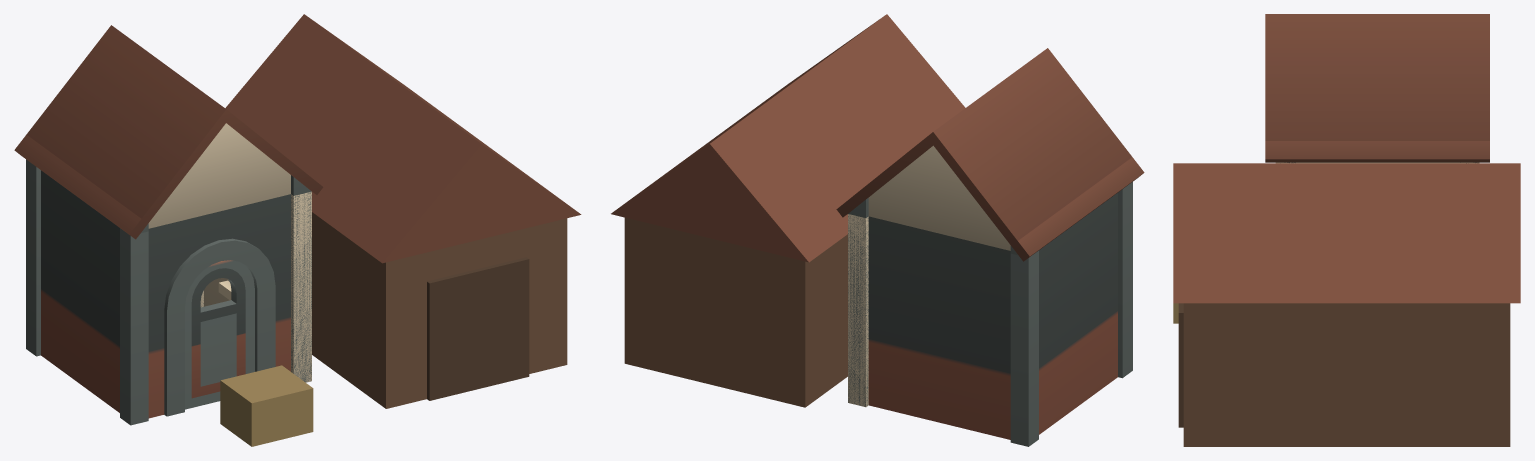
Rendered from facility-farm.glb.
3 views of the same model, side by side, from view 1: azimuth 30°, elevation 25°; view 2: azimuth 150°, elevation 25°; view 3: azimuth 270°, elevation 25° (orthographic). The views are drawn at different scales.
Parts seen in each view (by area): view 1: Original box (×3), Original gable, roof-gable, wall-wood (×2), wall-wood-door, door, wall-wood-window-small; view 2: wall-wood (×2), Original gable, Original box, roof-gable, wall-wood-window-small, wall-wood-door; view 3: Original gable, Original box (×2), roof-gable, wall-wood-window-small.
Part boxes in pixels (<box>): Original box (×3): <box>220,212,567,446</box>; Original gable: <box>225,14,581,263</box>; roof-gable: <box>14,25,323,239</box>; wall-wood (×2): <box>26,159,203,425</box>; wall-wood-door: <box>120,192,311,424</box>; door: <box>185,260,254,409</box>; wall-wood-window-small: <box>200,191,311,382</box>; wall-wood (×2): <box>848,182,1132,446</box>; Original gable: <box>611,14,965,262</box>; Original box: <box>624,217,847,407</box>; roof-gable: <box>836,48,1144,261</box>; wall-wood-window-small: <box>848,214,868,407</box>; wall-wood-door: <box>1118,182,1132,377</box>; Original gable: <box>1173,163,1520,303</box>; Original box (×2): <box>1178,303,1510,446</box>; roof-gable: <box>1265,14,1489,162</box>; wall-wood-window-small: <box>1276,162,1479,163</box>.
Size of the model in its own units: 2.24 by 1.57 by 1.7.
Materials: 5 (1 with a texture image).
